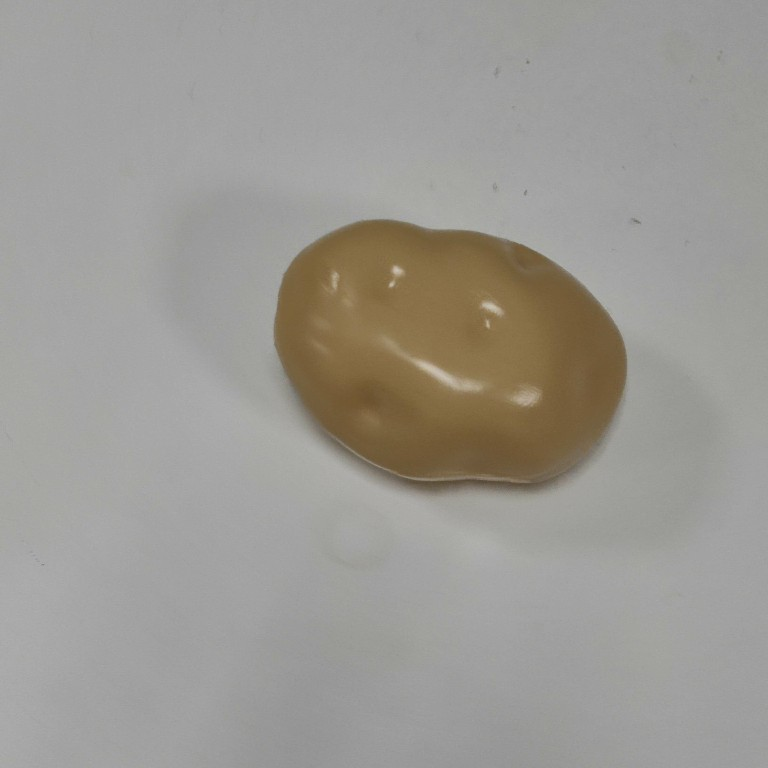fruit_potato: (271, 215, 634, 496)
